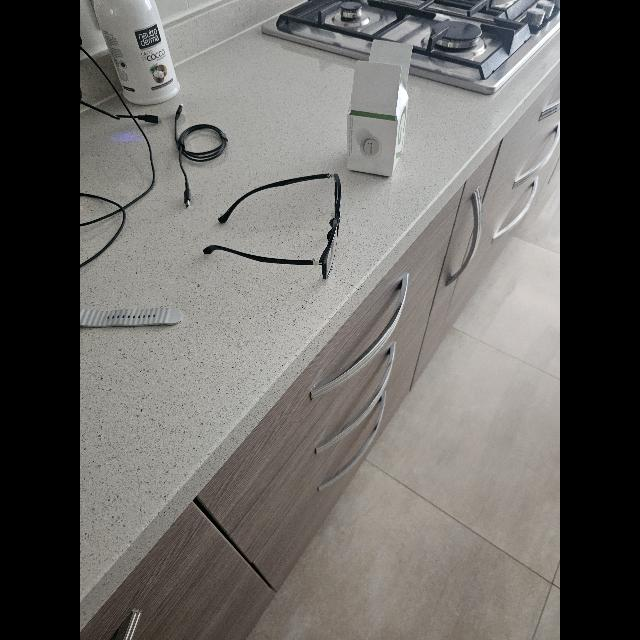glasses: (203, 174, 341, 279)
